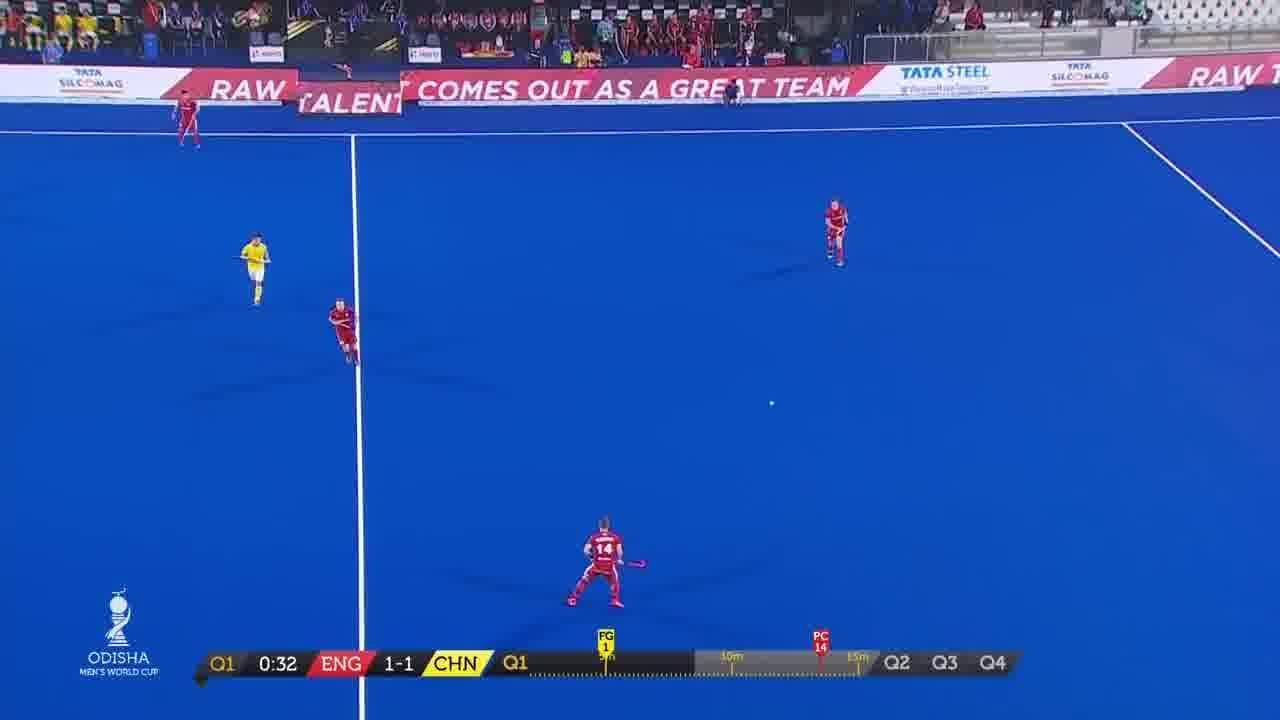ball: (761, 395, 780, 409)
